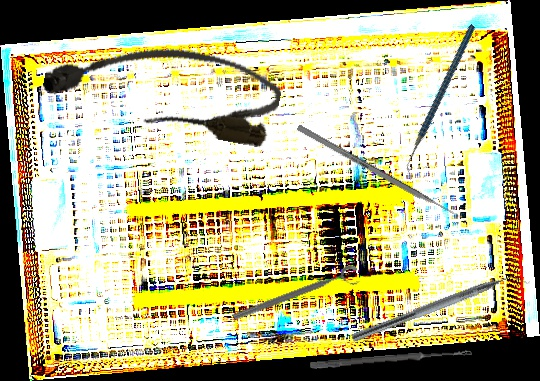Cannula: (39, 24, 286, 150)
Chopper: (364, 24, 518, 180), (349, 264, 533, 355)
Fixation Ring: (230, 262, 363, 332)
Pusher: (296, 124, 466, 223)
Surgical Spoon: (309, 347, 473, 371)
